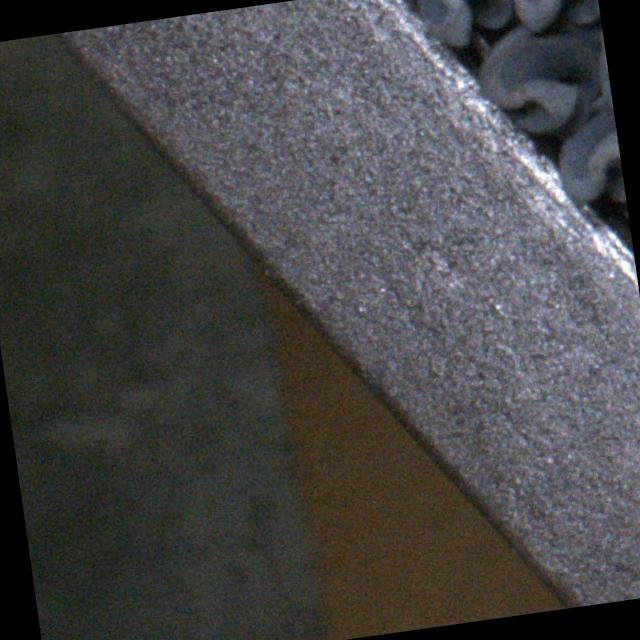tool_b: (475, 18, 608, 142), (553, 110, 629, 226), (413, 0, 538, 53), (506, 0, 601, 36)
